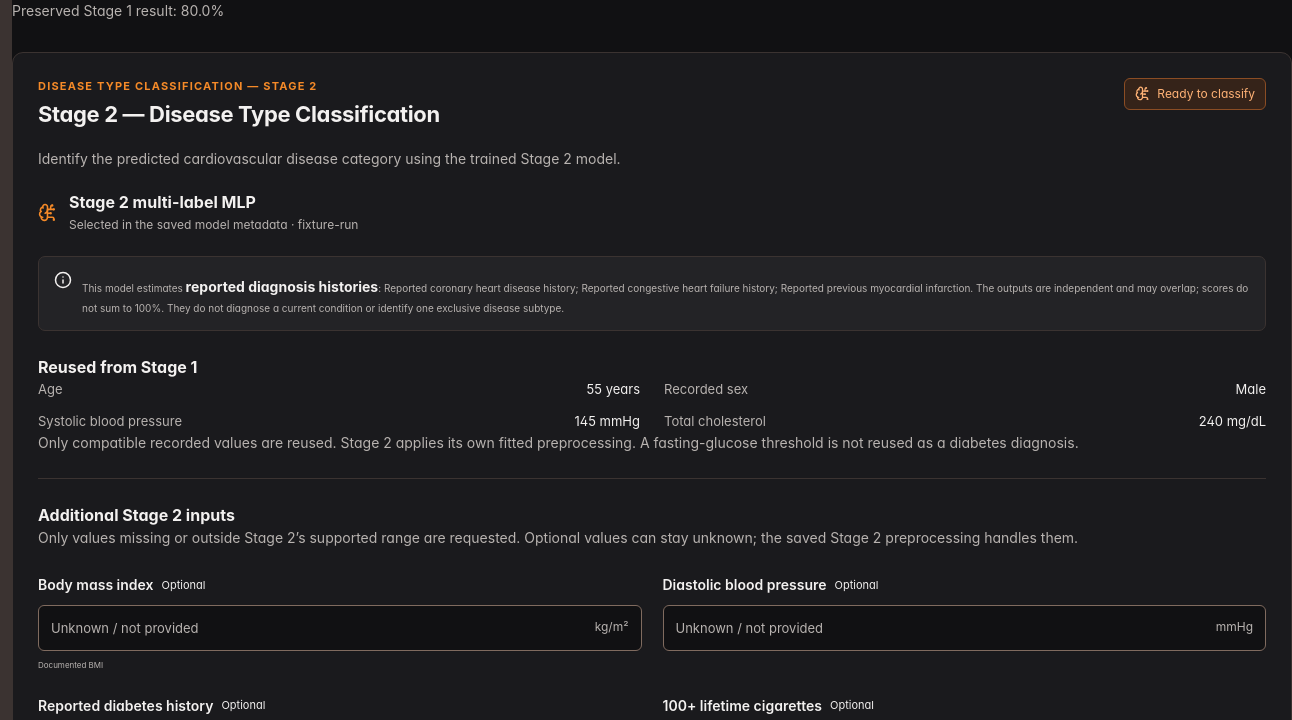
Test: Stage 2 extension › blocks inconsistent blood pressure without calling the classifier
The width and height of the screenshot is (1292, 720).
Expected: the text "Ready to classify" is shown, [1124, 78, 1266, 110]
Type "150" into the number field labelled "Diastolic blood pressure Optional". click: (964, 628)
box: [662, 605, 1266, 651]
(page scrolled)
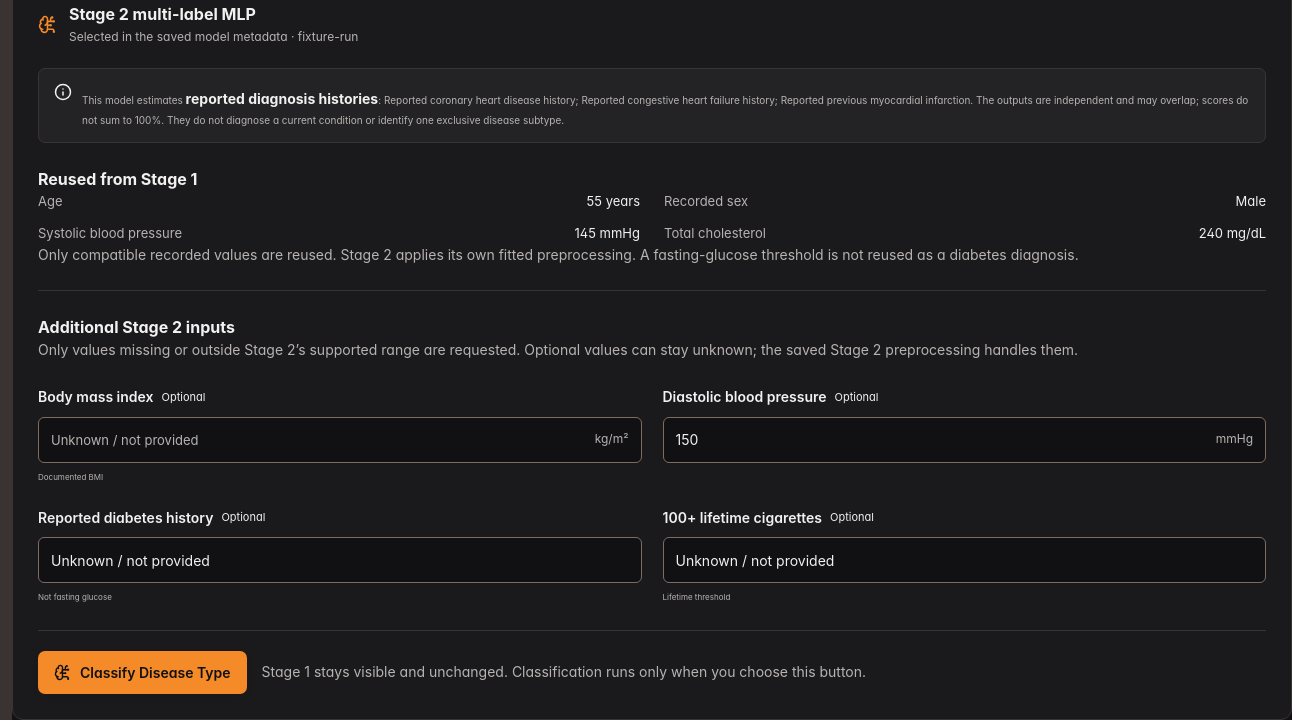
Click the button "Classify Disease Type". click: (142, 672)
box: [38, 651, 247, 694]
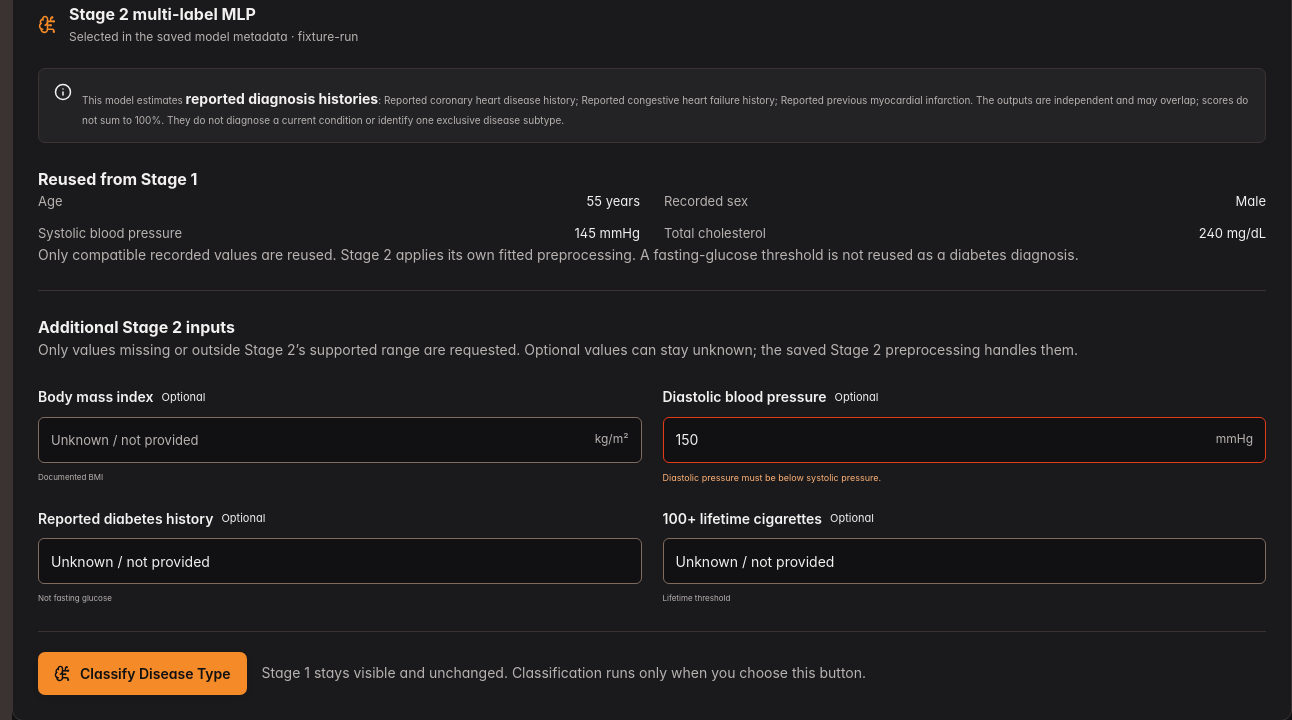
Now the text "Diastolic pressure must be below systolic pressure." is shown, box [662, 472, 881, 483]
